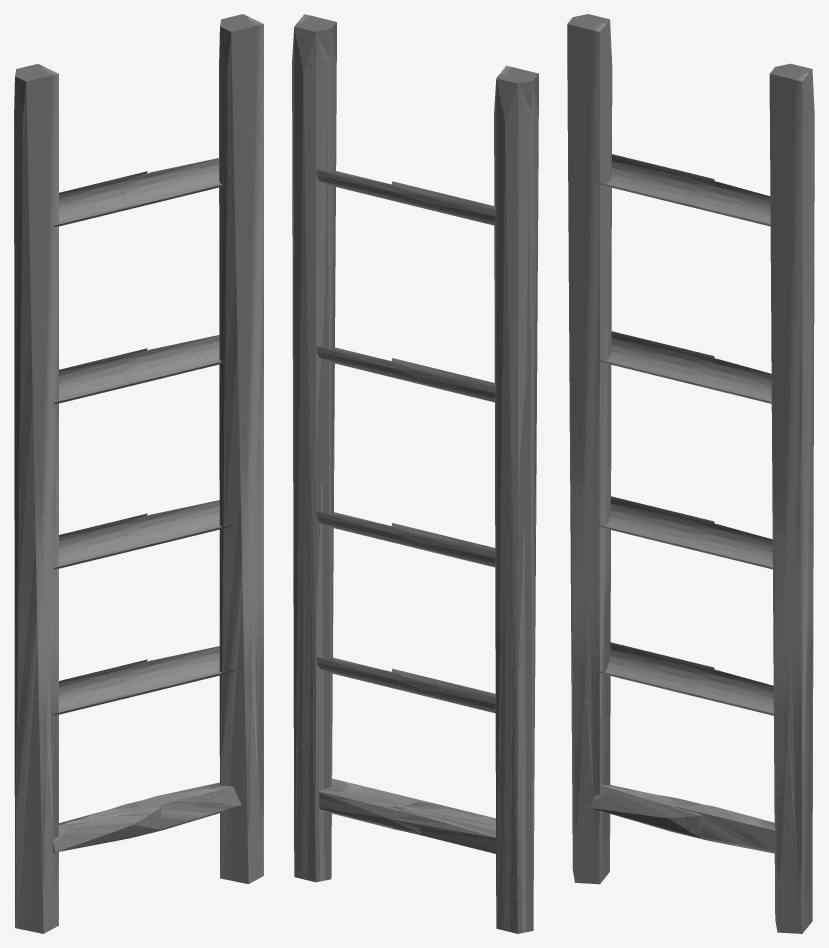
The model's file is lojtra.glb.
3 renders of one model, left to right at view 1: azimuth 30°, elevation 25°; view 2: azimuth 150°, elevation 25°; view 3: azimuth 330°, elevation 25°, orthographic.
Parts seen in each view (by area): view 1: Cylinder; view 2: Cylinder; view 3: Cylinder.
Part boxes in pixels (x1,y1,x2,y2): Cylinder: (14,14,263,933); Cylinder: (292,14,538,933); Cylinder: (567,14,814,933).
Bounding box in the file's own units: 1.21 × 4.1 × 0.2048.
Materials: 1 (1 with a texture image).
